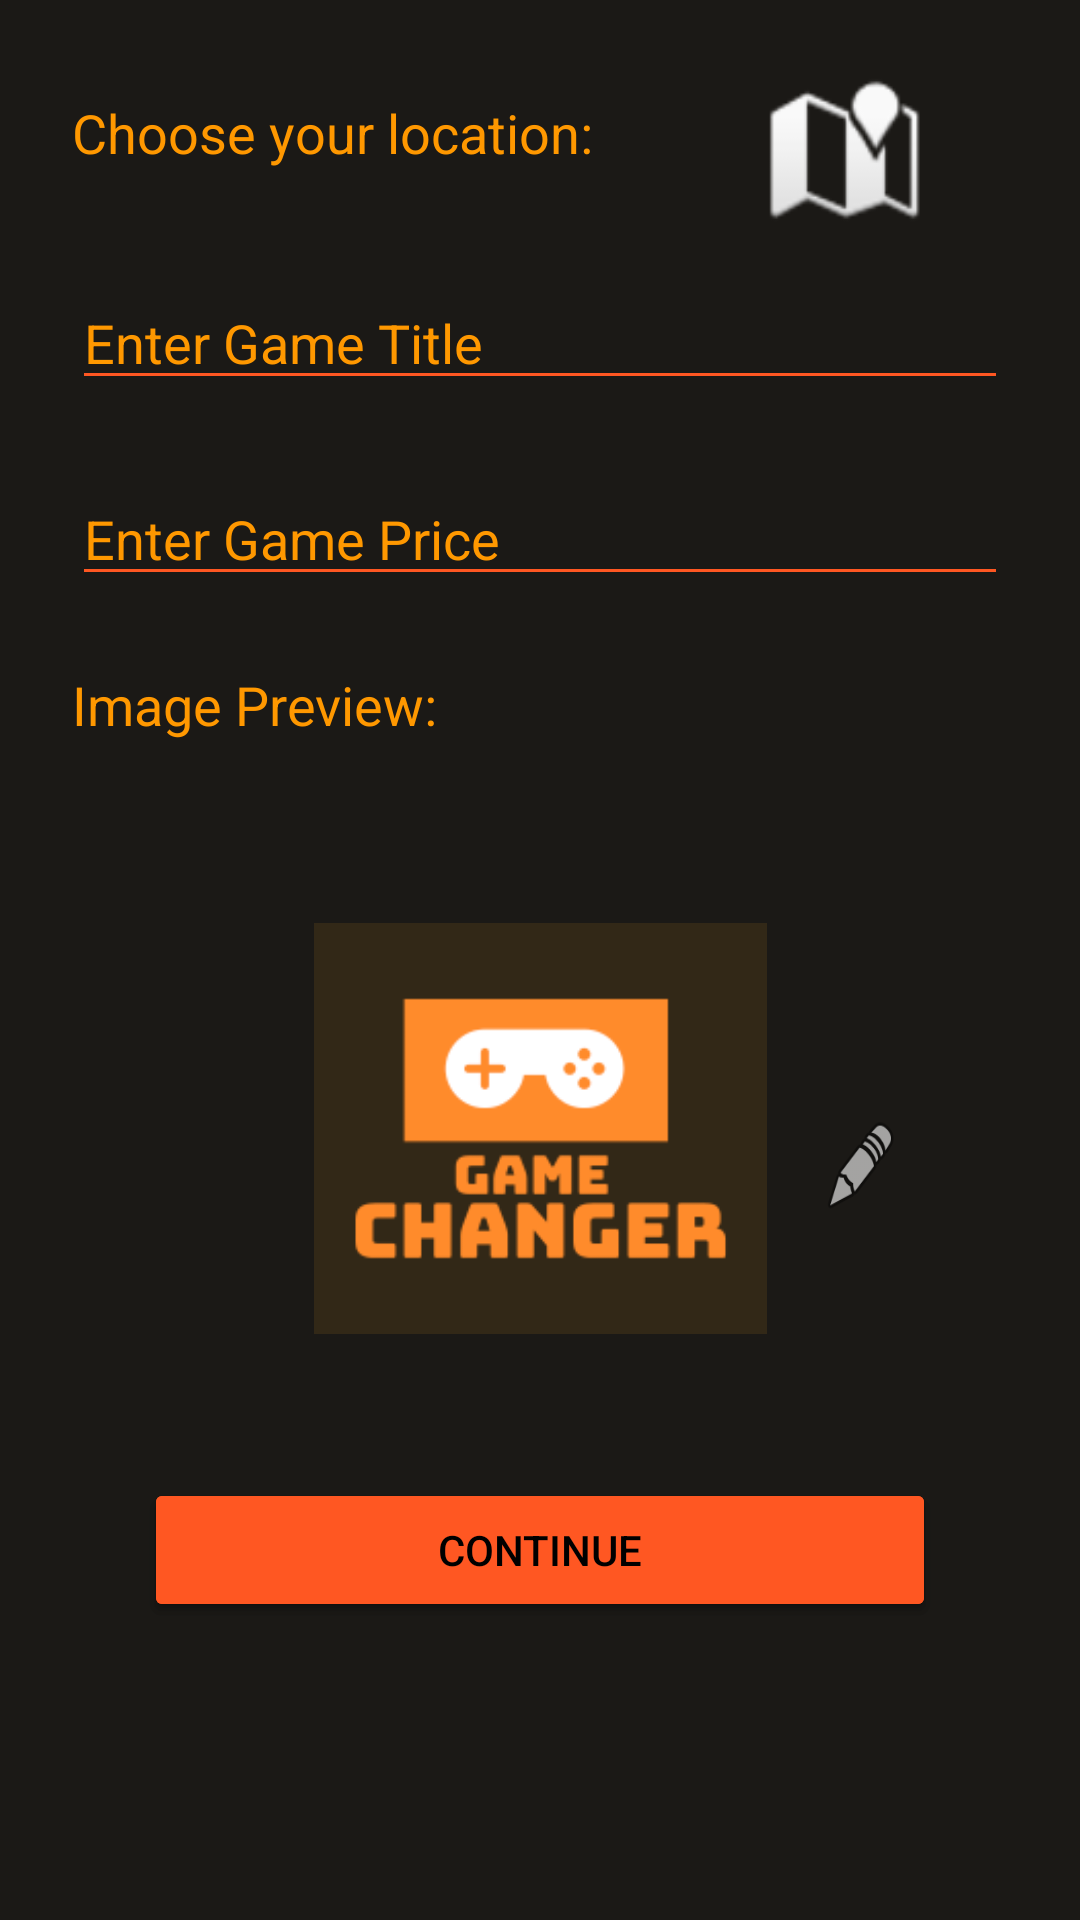

Icon click points for this 1080 × 1920 phone screenshot, format (x=x, y=y):
edit: (x=860, y=1165)
map: (x=845, y=149)
